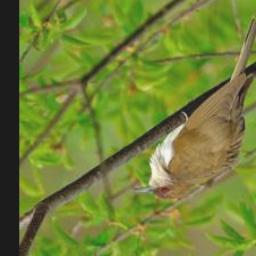Cuckoo: (134, 5, 256, 204)
